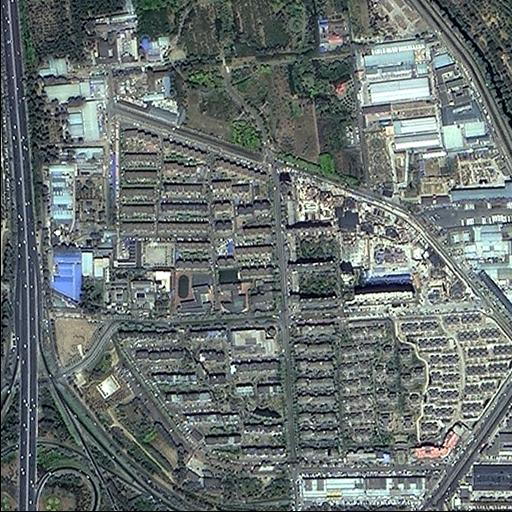school: (169, 266, 250, 313)
